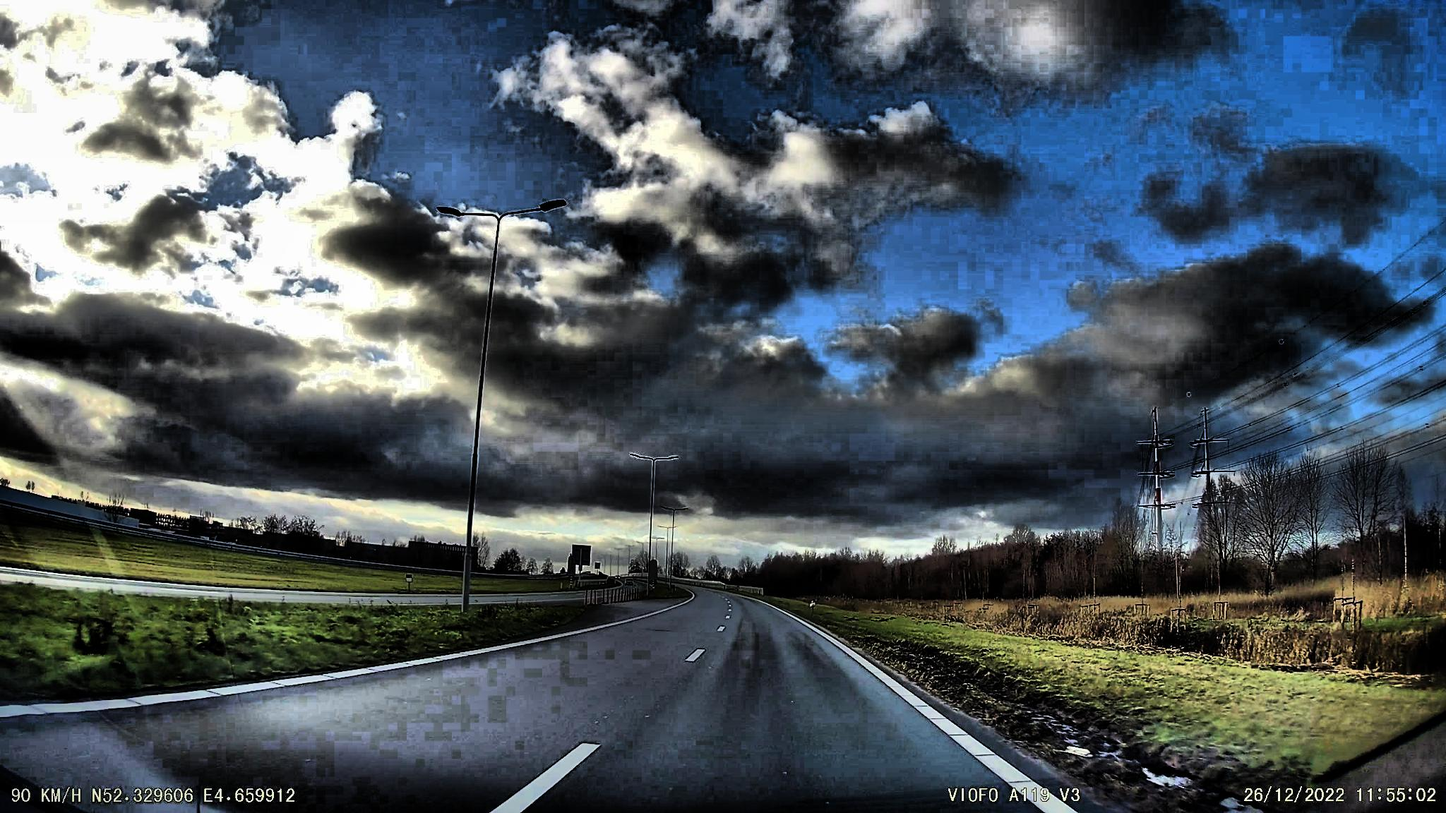Roads: (0, 587, 1118, 813)
